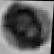correct: (0, 4, 50, 49)
